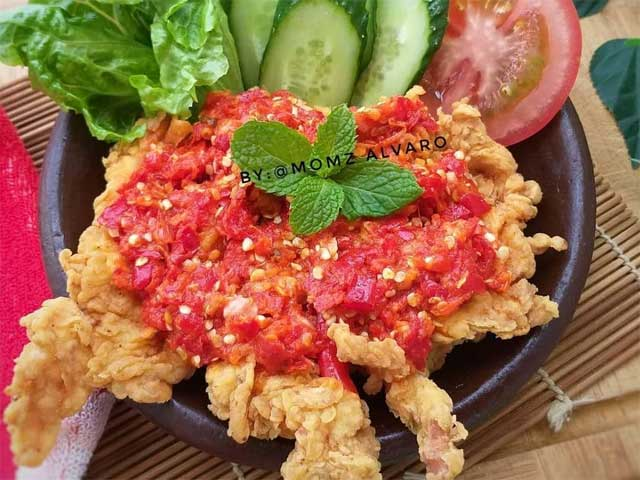ayam_geprek: (67, 82, 548, 478)
